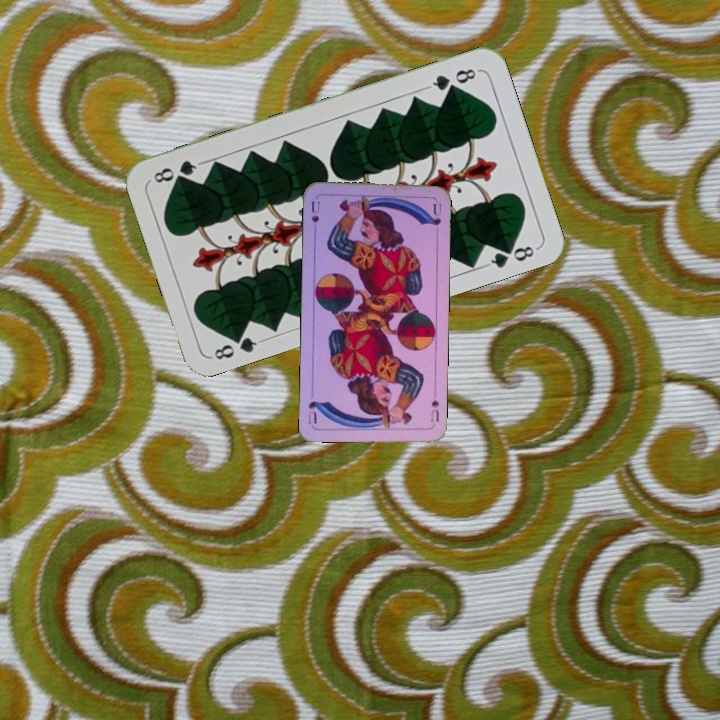G8: (207, 328, 266, 363), (424, 64, 482, 94)
SU: (307, 197, 322, 237), (426, 396, 442, 424)
